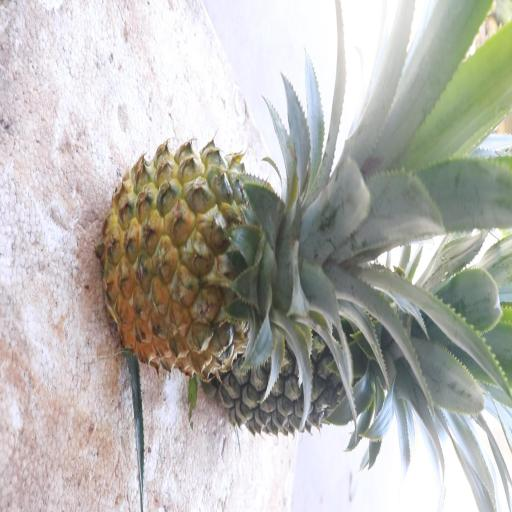Pineapple - v8 v1: (96, 134, 338, 380)
